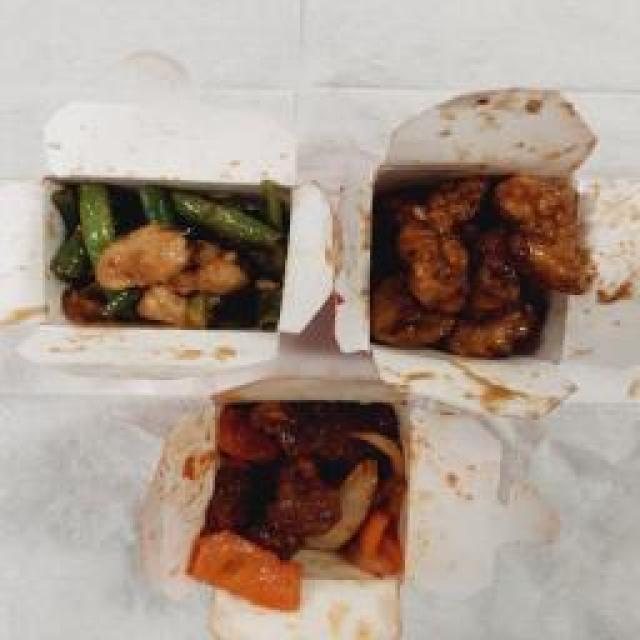Beijing Beef: (193, 395, 416, 595)
String Bean Chicken Breast: (48, 180, 281, 335)
The Original Orange Chicken: (365, 165, 593, 363)
